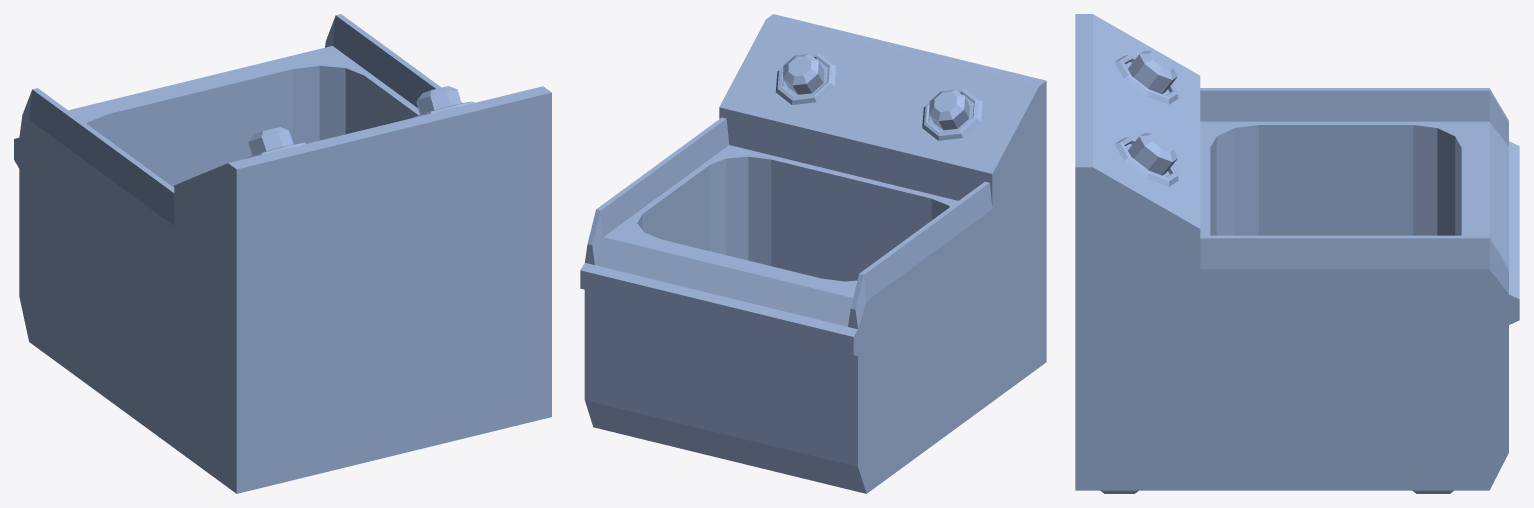
The model's file is Estación_Freidora_NoTextures.fbx.
3 renders of one model, left to right at view 1: azimuth 30°, elevation 25°; view 2: azimuth 150°, elevation 25°; view 3: azimuth 270°, elevation 25°, orthographic. The views are drawn at different scales.
Parts seen in each view (by area): view 1: Cube.002; view 2: Cube.002; view 3: Cube.002.
Boxes of the visible parts, x1=… form: Cube.002: x1=14, y1=14, x2=551, y2=493; Cube.002: x1=580, y1=14, x2=1046, y2=493; Cube.002: x1=1075, y1=14, x2=1519, y2=493.
Size of the model in its own units: 121 by 124 by 148.
